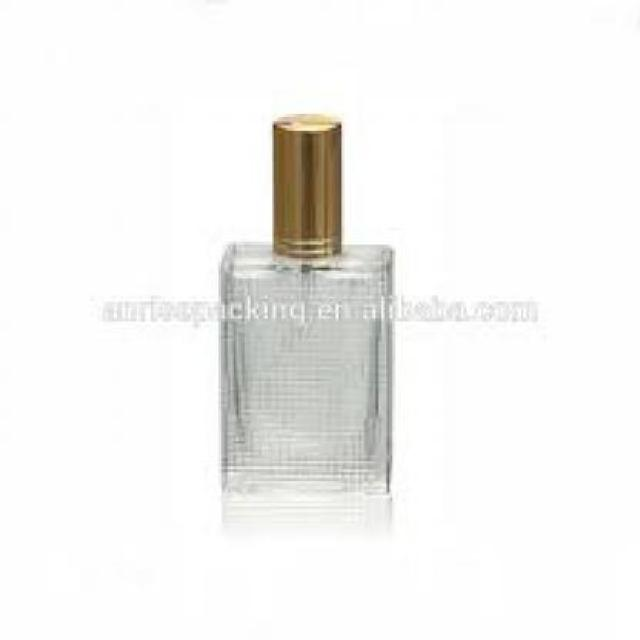kaca: (220, 242, 394, 496)
